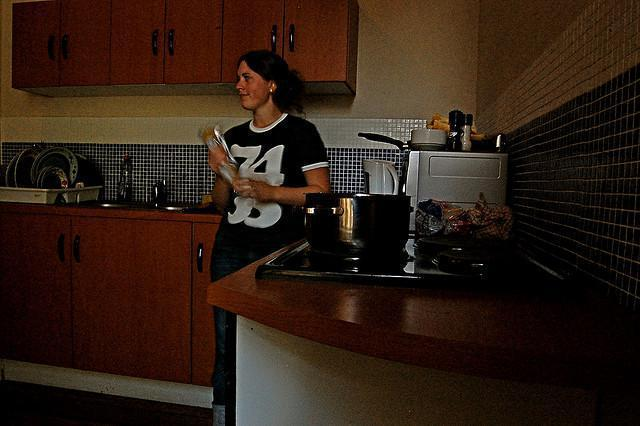Lavaplatos: (77, 150, 192, 219)
